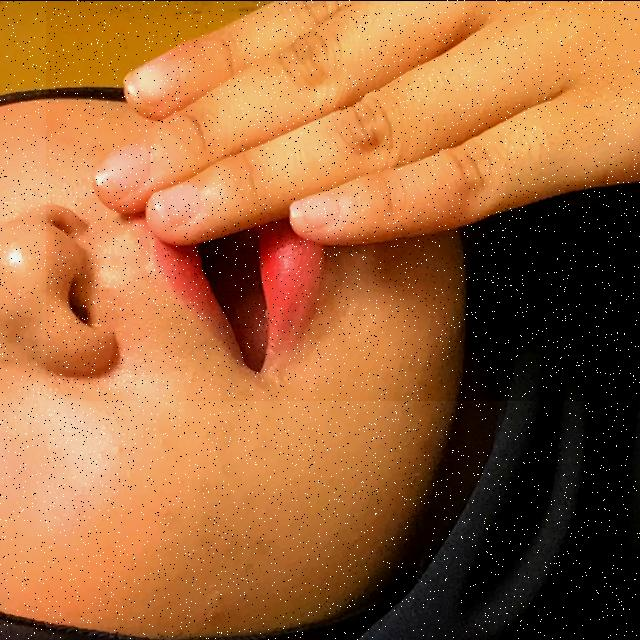ngantuk: (46, 0, 640, 400)
